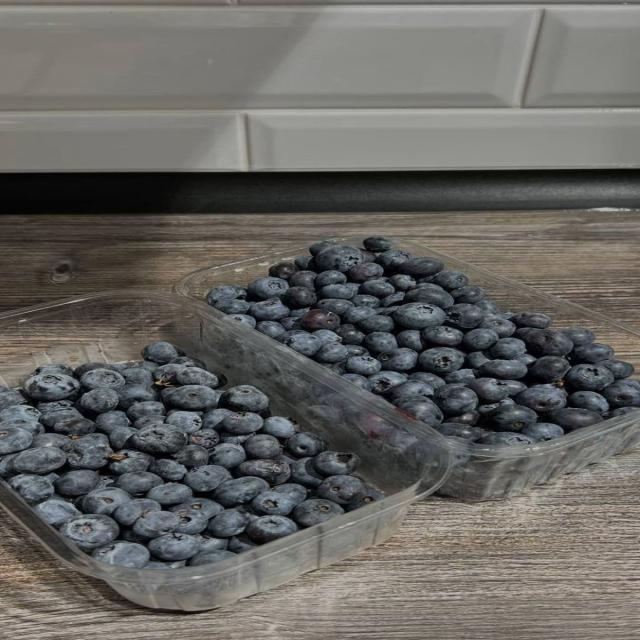blueberry: (59, 515, 119, 550), (62, 434, 112, 469), (131, 424, 187, 454), (213, 477, 269, 507), (23, 374, 79, 401), (92, 541, 149, 567), (394, 396, 442, 426), (148, 533, 199, 561), (293, 499, 344, 527), (81, 487, 131, 515), (393, 303, 446, 329), (246, 516, 297, 543), (112, 499, 162, 526), (315, 245, 365, 272), (487, 404, 537, 431), (434, 384, 477, 415), (515, 387, 566, 413), (236, 460, 291, 484), (546, 408, 603, 431), (169, 385, 219, 411), (523, 330, 573, 356), (35, 499, 81, 527), (183, 464, 229, 492), (565, 364, 614, 390), (403, 284, 455, 308), (220, 386, 268, 412), (115, 471, 163, 497), (207, 509, 250, 538), (54, 470, 100, 497), (419, 347, 464, 373), (313, 451, 359, 475), (176, 367, 226, 389), (109, 450, 153, 475), (169, 498, 223, 518), (354, 293, 403, 315), (462, 328, 508, 351), (146, 483, 192, 506), (530, 356, 570, 382), (602, 381, 639, 409), (446, 303, 484, 330), (118, 384, 157, 410), (388, 380, 434, 402), (469, 378, 511, 402), (287, 432, 327, 457), (78, 389, 119, 413), (80, 369, 126, 390), (221, 412, 263, 435), (247, 277, 289, 300), (291, 458, 324, 487), (0, 426, 34, 454), (478, 360, 528, 379), (345, 487, 386, 510), (567, 391, 609, 413), (38, 406, 82, 427), (378, 348, 418, 371), (244, 435, 282, 459), (421, 326, 464, 347), (210, 443, 246, 468), (436, 423, 485, 441), (570, 343, 614, 363), (173, 509, 208, 534), (368, 371, 406, 394), (249, 300, 290, 321), (206, 285, 246, 306), (260, 416, 298, 438), (149, 459, 187, 481), (376, 250, 412, 273), (165, 411, 202, 433), (95, 411, 130, 434), (489, 338, 526, 359), (173, 445, 208, 467), (272, 483, 308, 504), (478, 432, 536, 445), (188, 550, 235, 566), (432, 270, 469, 290), (479, 318, 516, 338), (523, 423, 564, 441), (127, 402, 165, 421), (357, 315, 395, 334), (0, 420, 45, 436), (347, 263, 383, 283), (53, 418, 95, 435), (598, 360, 635, 379), (510, 312, 551, 329), (0, 405, 41, 422), (346, 356, 382, 375), (476, 398, 514, 416), (315, 299, 355, 316), (202, 408, 234, 429), (153, 364, 185, 385), (314, 270, 347, 290), (197, 532, 228, 553), (359, 280, 395, 298), (314, 344, 348, 363), (450, 285, 484, 304), (396, 330, 425, 352), (335, 324, 365, 345), (561, 328, 595, 346), (289, 270, 317, 291), (409, 372, 445, 388), (318, 284, 356, 299), (228, 534, 257, 553), (32, 433, 71, 447), (448, 409, 480, 426), (0, 390, 26, 410), (214, 300, 251, 314), (256, 321, 285, 338), (445, 369, 475, 385), (34, 364, 73, 376), (309, 240, 338, 256), (390, 274, 417, 291), (465, 352, 489, 371), (363, 237, 393, 252), (0, 453, 18, 478), (342, 374, 370, 390), (269, 262, 295, 279), (513, 327, 542, 342), (120, 530, 149, 545), (604, 407, 639, 419), (143, 560, 185, 570), (501, 380, 527, 396), (220, 432, 252, 445), (314, 330, 341, 345), (294, 256, 316, 274), (129, 360, 159, 372), (476, 299, 499, 314), (322, 363, 346, 375), (346, 344, 368, 356), (617, 379, 639, 388)
